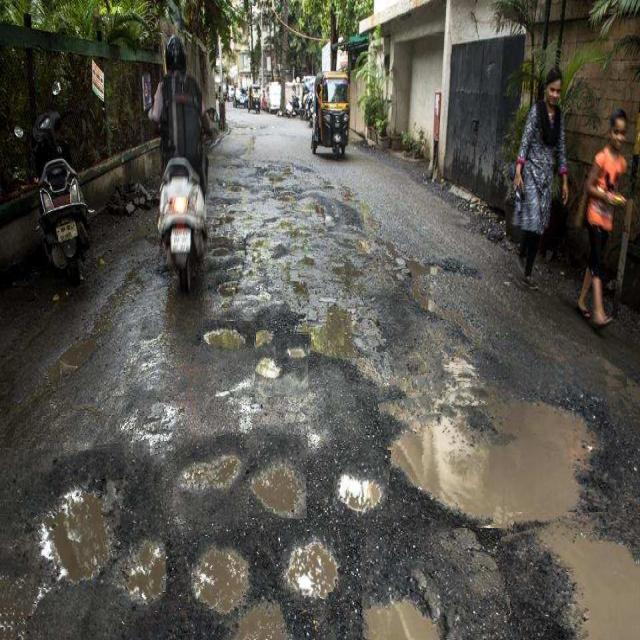Pothole: (384, 364, 627, 528), (0, 443, 166, 640), (507, 512, 640, 640), (181, 529, 280, 640), (361, 559, 465, 640), (173, 436, 244, 521), (328, 450, 391, 530), (249, 434, 307, 518), (284, 531, 344, 610), (255, 331, 310, 397), (200, 321, 255, 361)
